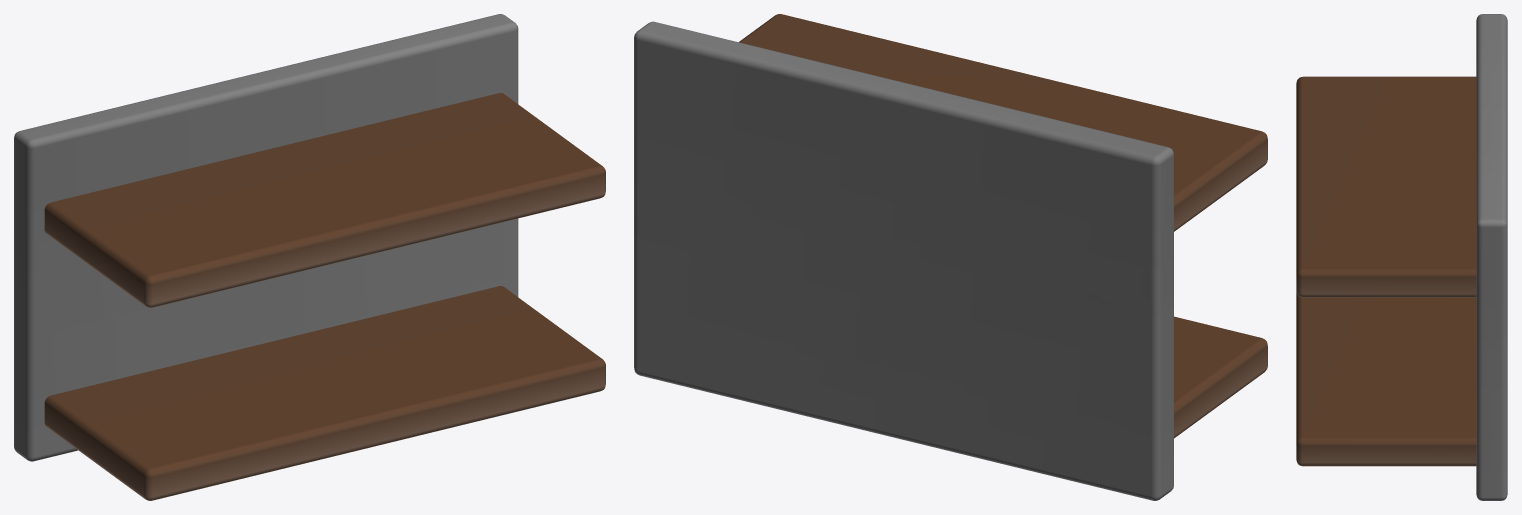
File: HH_WallShelf.fbx
3 renders of one model, left to right at view 1: azimuth 30°, elevation 25°; view 2: azimuth 150°, elevation 25°; view 3: azimuth 270°, elevation 25°, orthographic. The views are drawn at different scales.
Visible parts, largest first — view 1: Shelf_Back, Shelf_Top, Shelf_Bottom; view 2: Shelf_Back, Shelf_Top, Shelf_Bottom; view 3: Shelf_Top, Shelf_Bottom, Shelf_Back.
Boxes of the visible parts, x1,y1,x2,y2 form: Shelf_Back: [14, 14, 518, 461]; Shelf_Top: [44, 93, 605, 307]; Shelf_Bottom: [44, 286, 605, 500]; Shelf_Back: [634, 21, 1173, 500]; Shelf_Top: [739, 14, 1267, 231]; Shelf_Bottom: [1174, 316, 1267, 438]; Shelf_Top: [1296, 76, 1476, 297]; Shelf_Bottom: [1296, 291, 1476, 466]; Shelf_Back: [1476, 14, 1507, 500].
Bounding box in the file's own units: 160 × 100 × 68.
1 material, 1 textured.
